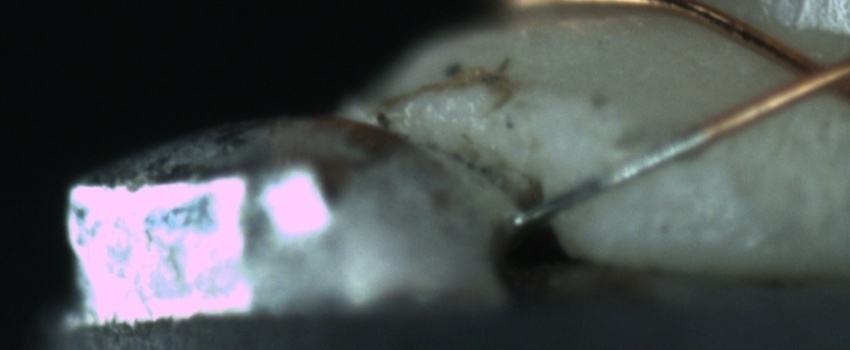CL: (767, 41, 849, 107)
TS: (520, 127, 705, 230)
